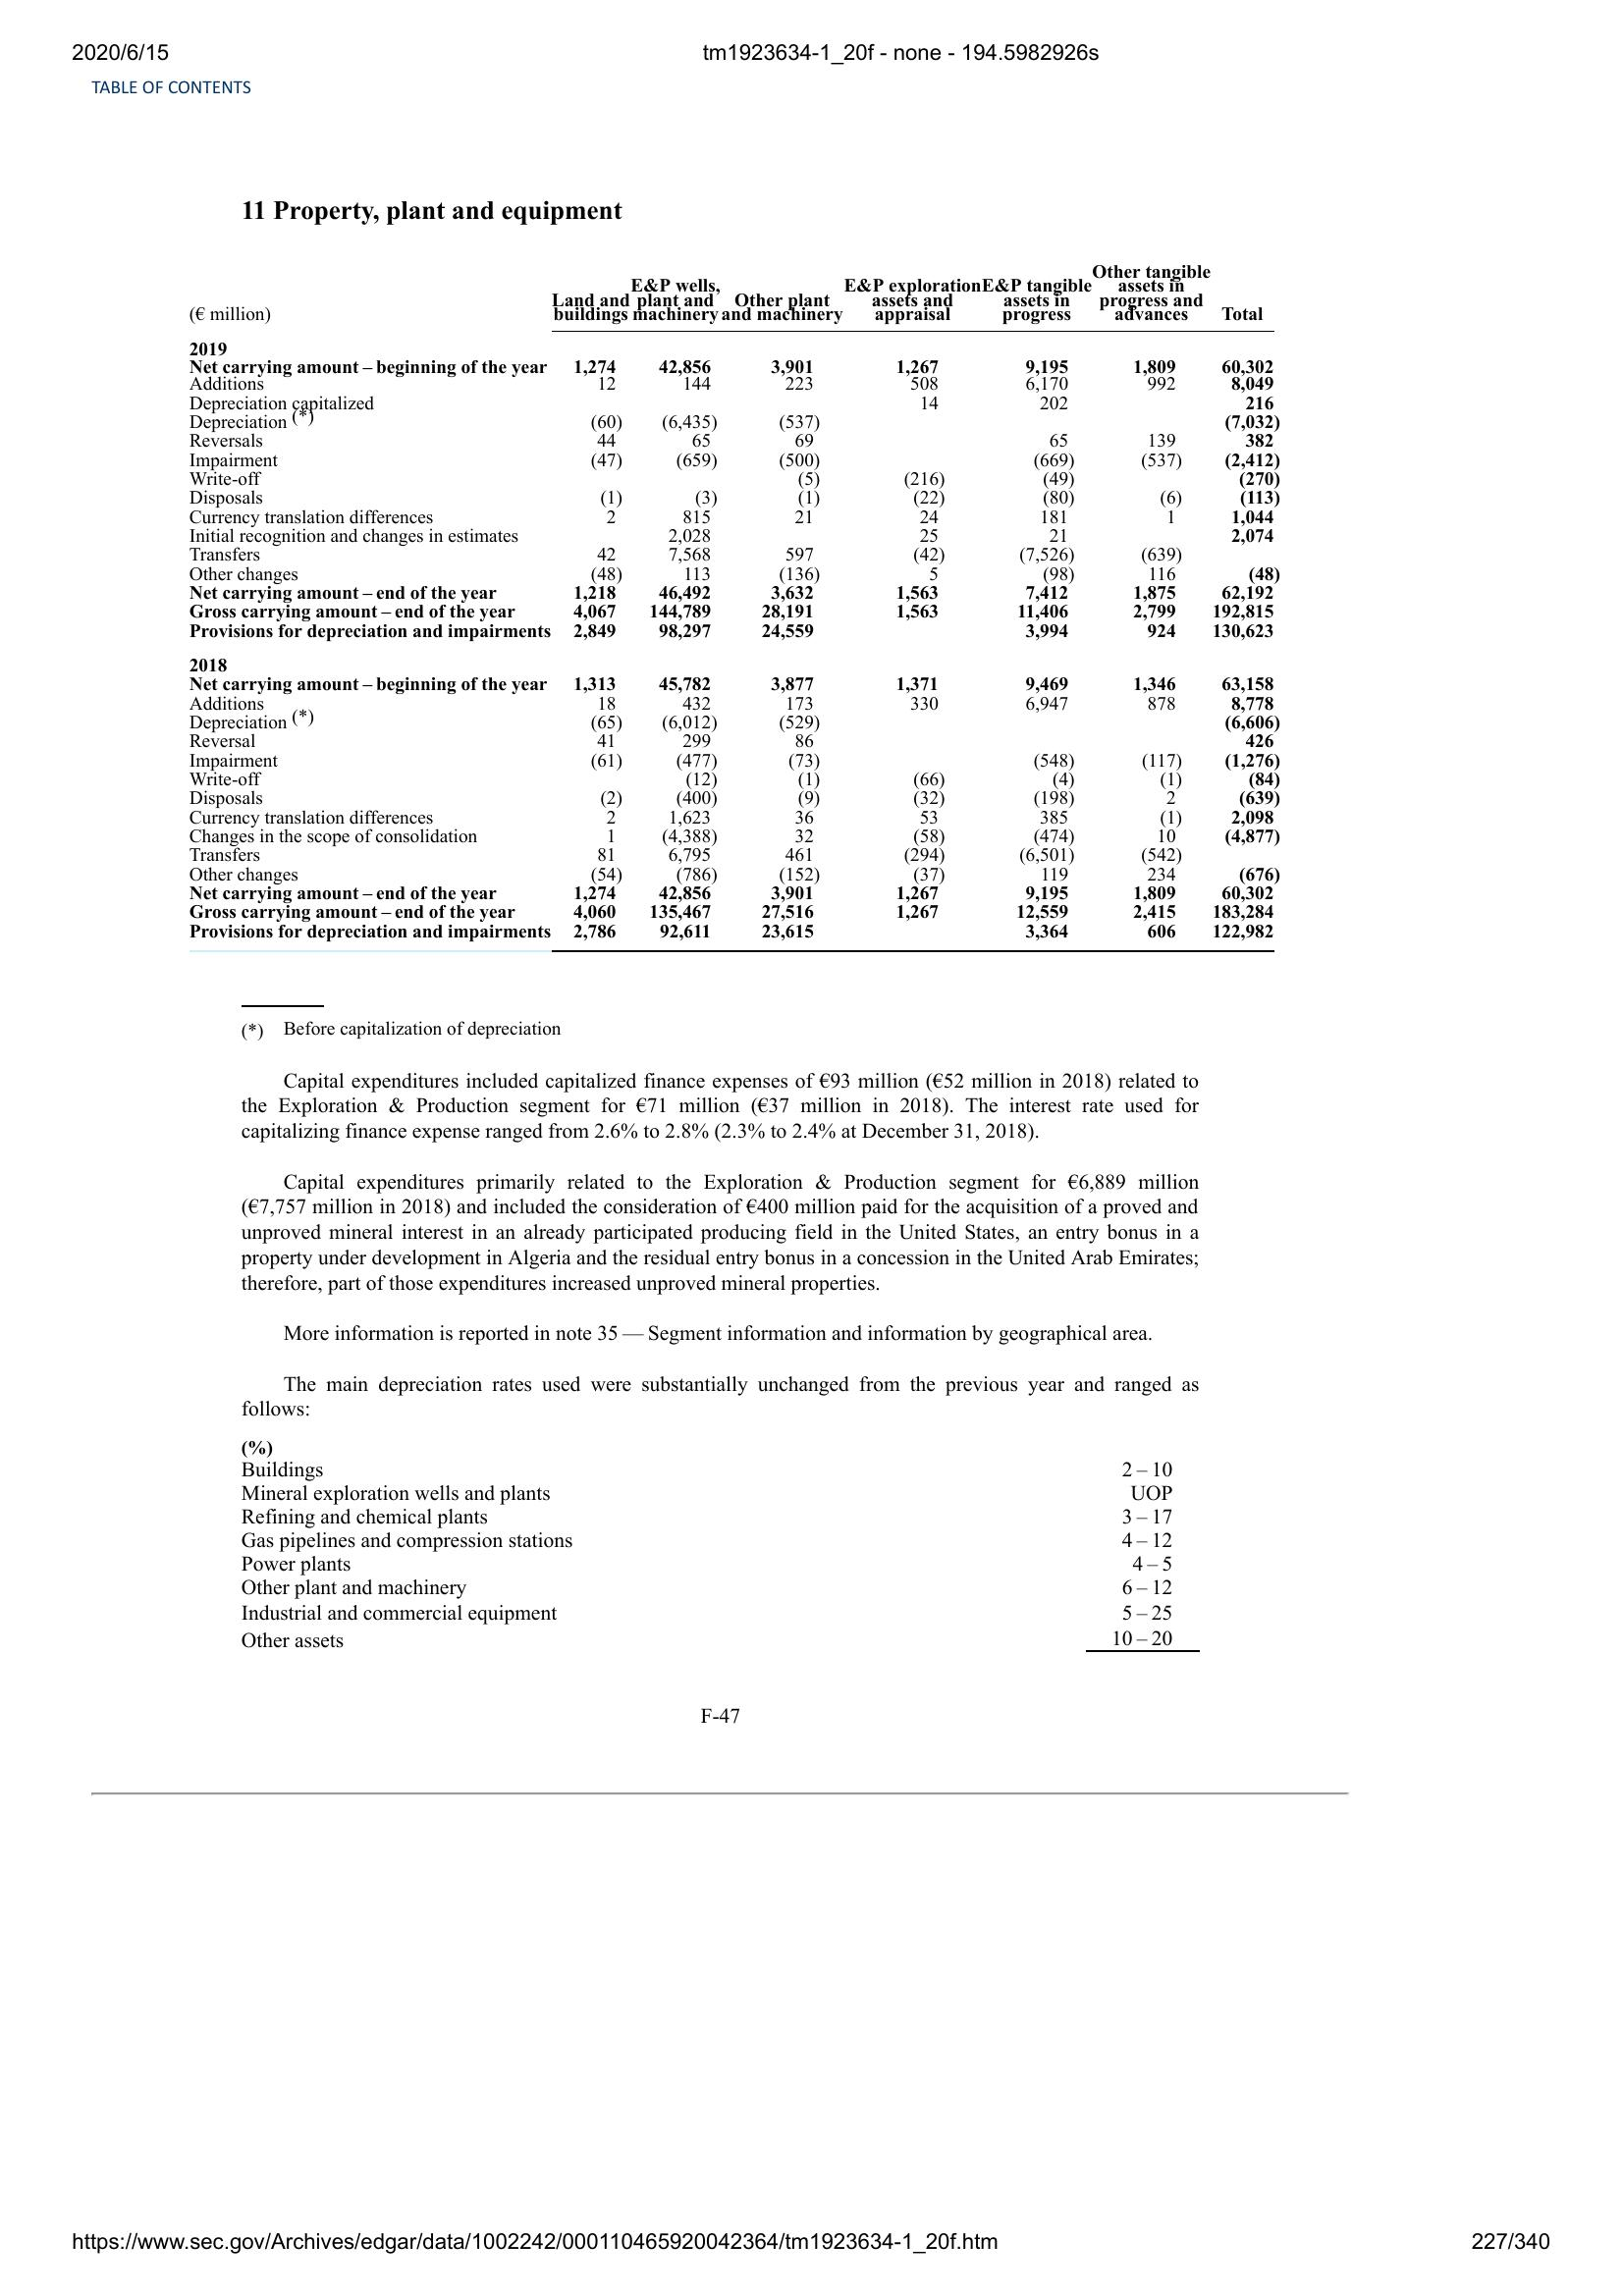table: (186, 270, 1286, 953), (223, 1452, 1201, 1661)
